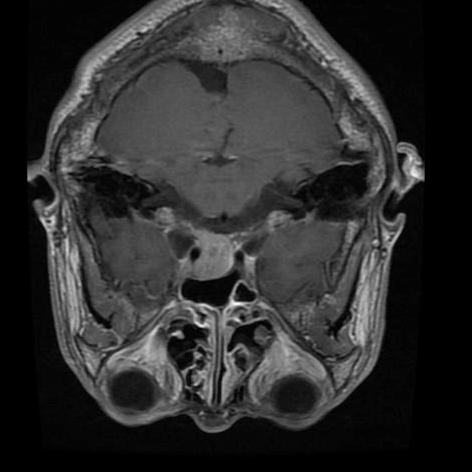Tumour-Pituitary: (177, 225, 258, 287)
